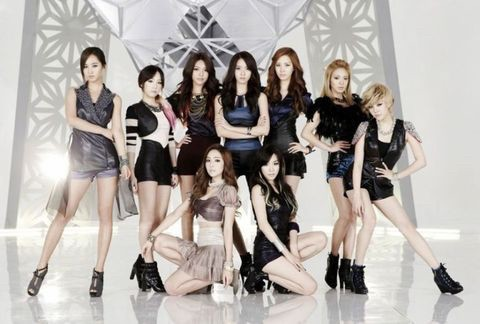people: (59, 46, 122, 296), (356, 82, 425, 290), (316, 60, 358, 274), (188, 144, 242, 306), (173, 50, 219, 238), (131, 64, 167, 300), (255, 146, 307, 288), (219, 52, 267, 202), (265, 46, 307, 189)
